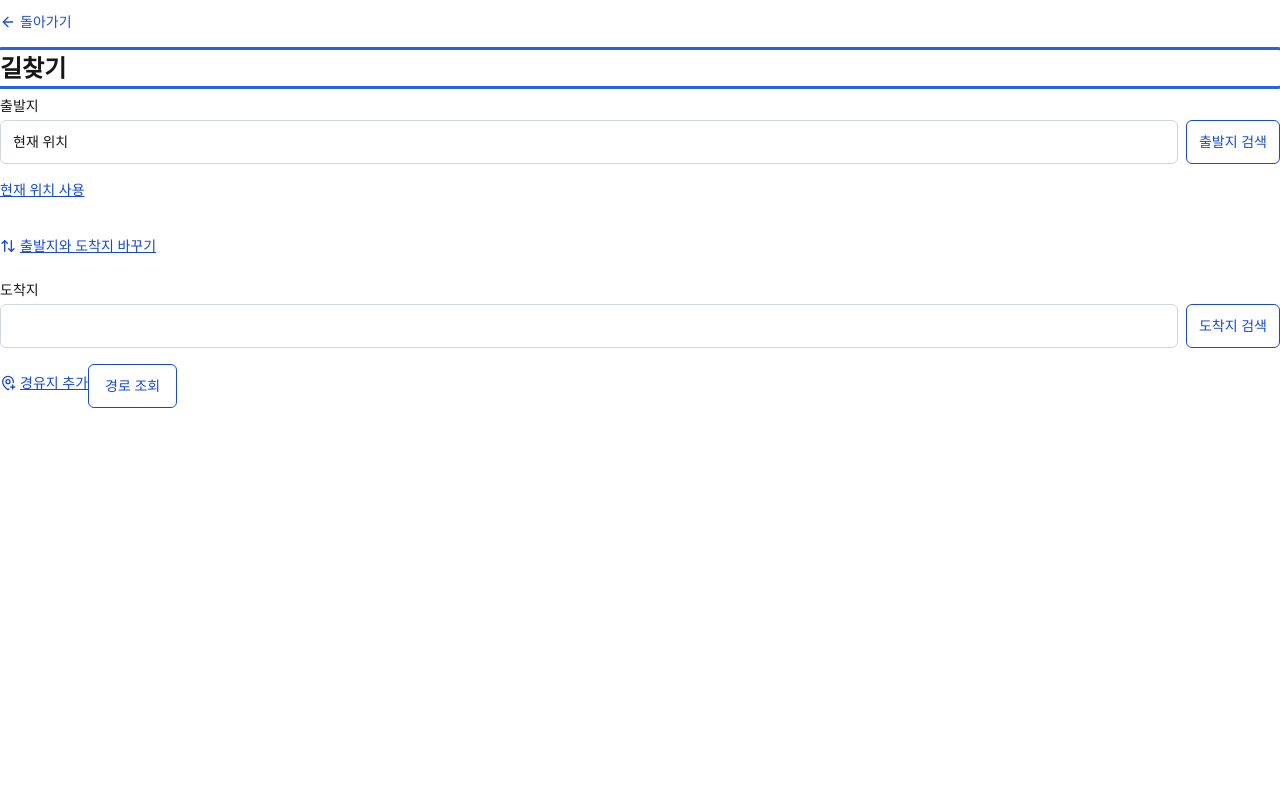
Test: 대안 이름 조립(E50 §4.1) › 축 여럿은 조각을 쉼표로 이은 한 줄이 disclosure 이름이다
Replace the text in the field labelled "출발지" with "강남": (589, 142) [0,120,1178,164]
Click the button "출발지 검색": (1233, 142) [1186,120,1279,164]
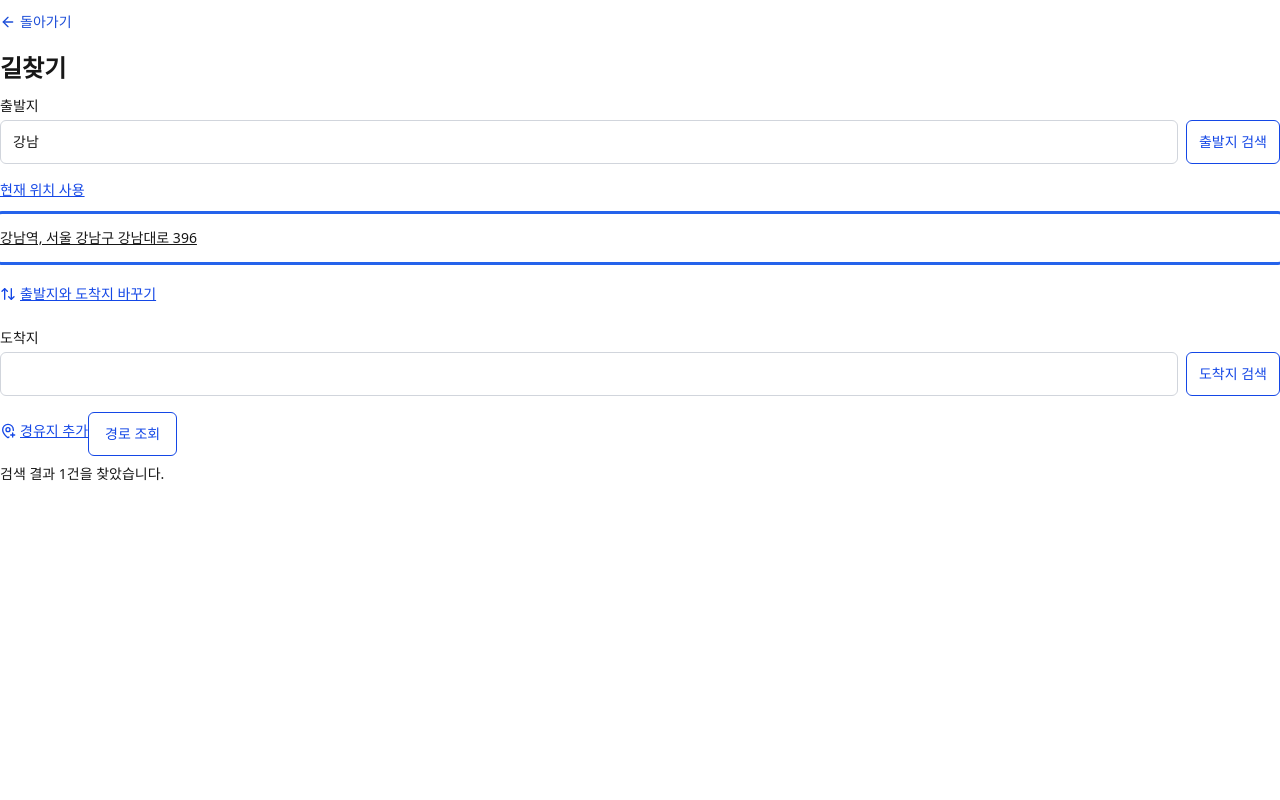
Click the button "강남역, 서울 강남구 강남대로 396": (98, 238) [0,216,1279,260]
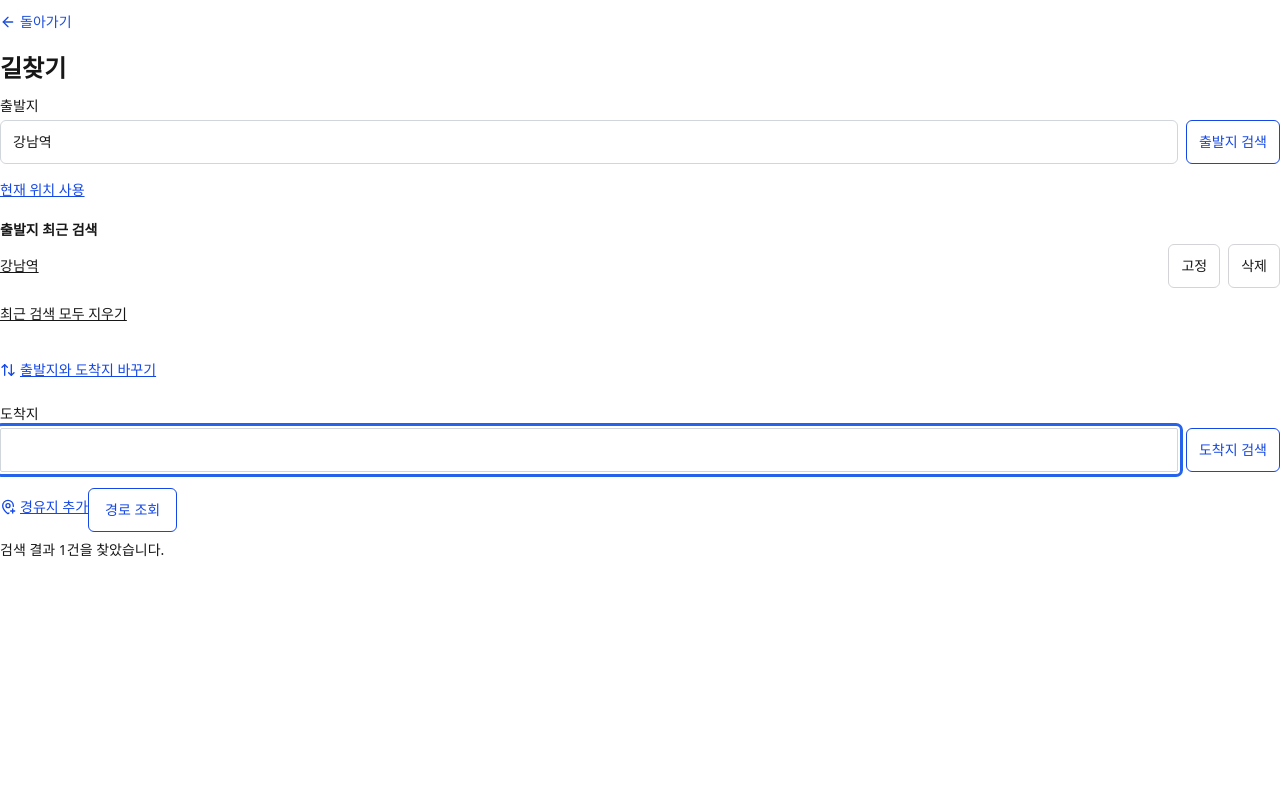
In the field labelled "도착지": (589, 450) [0,428,1178,472], type "강남"
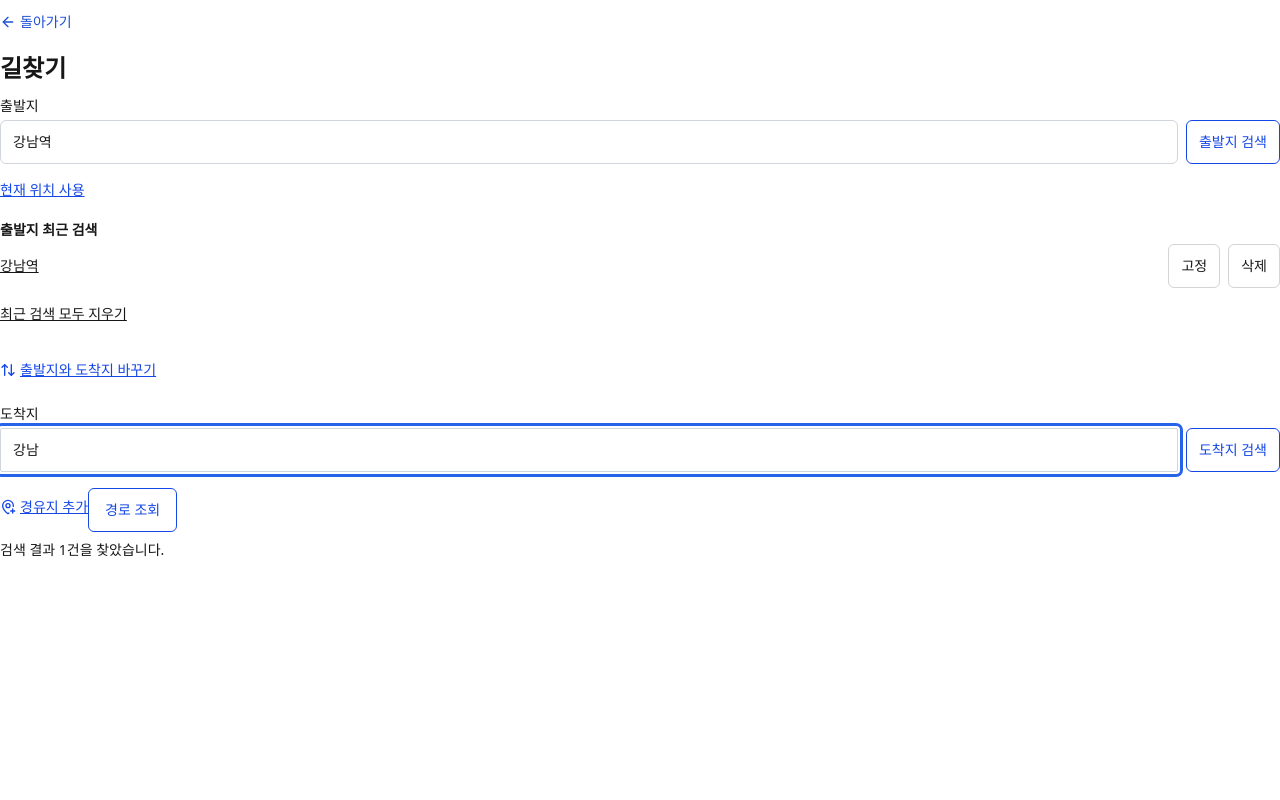
Click the button "도착지 검색": (1233, 450) [1186,428,1279,472]
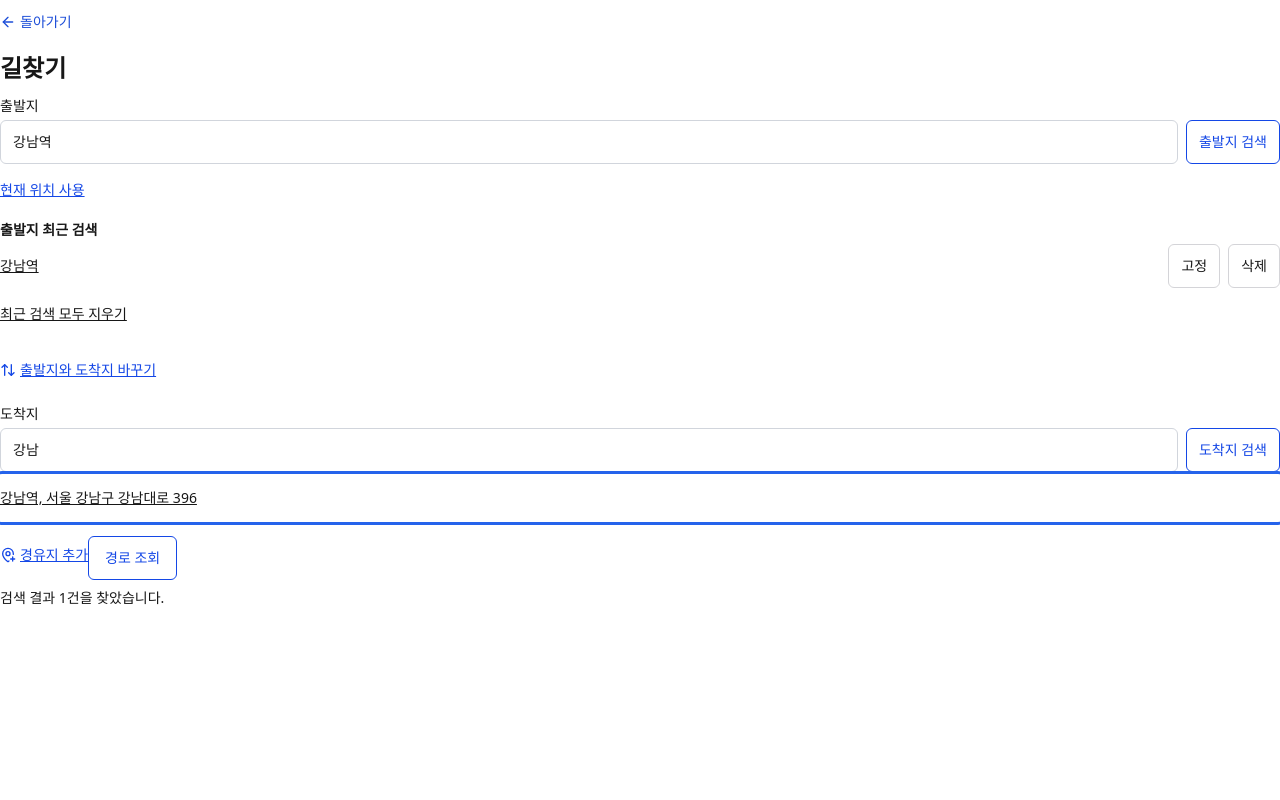
Click the button "강남역, 서울 강남구 강남대로 396": (98, 498) [0,476,1279,520]
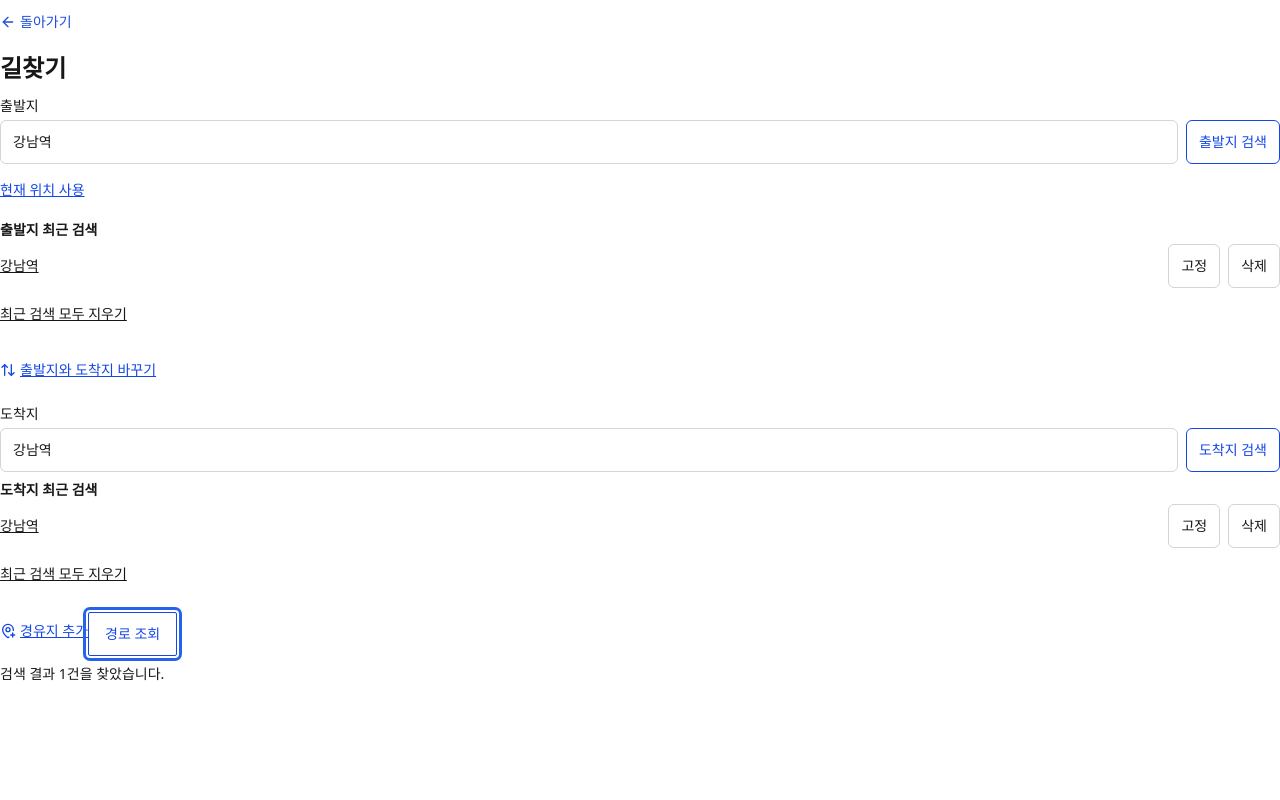
Click the button "경로 조회": (133, 634) [88,612,177,656]
(page scrolled)
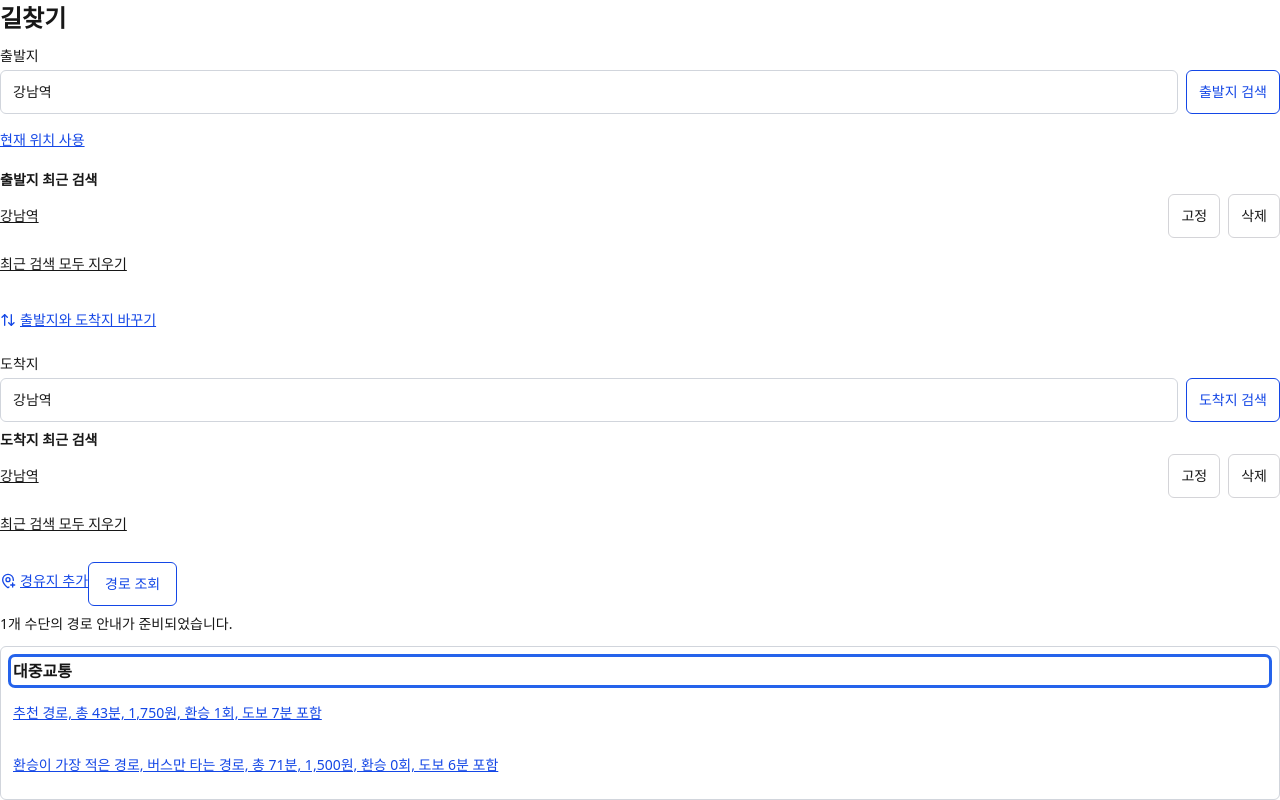
expect the button "추천 경로, 총 43분, 1,750원, 환승 1회, 도보 7분 포함" is shown: met, box [13,691,322,735]
expect the button "환승이 가장 적은 경로, 버스만 타는 경로, 총 71분, 1,500원, 환승 0회, 도보 6분 포함" is shown: met, box [13,743,498,787]
